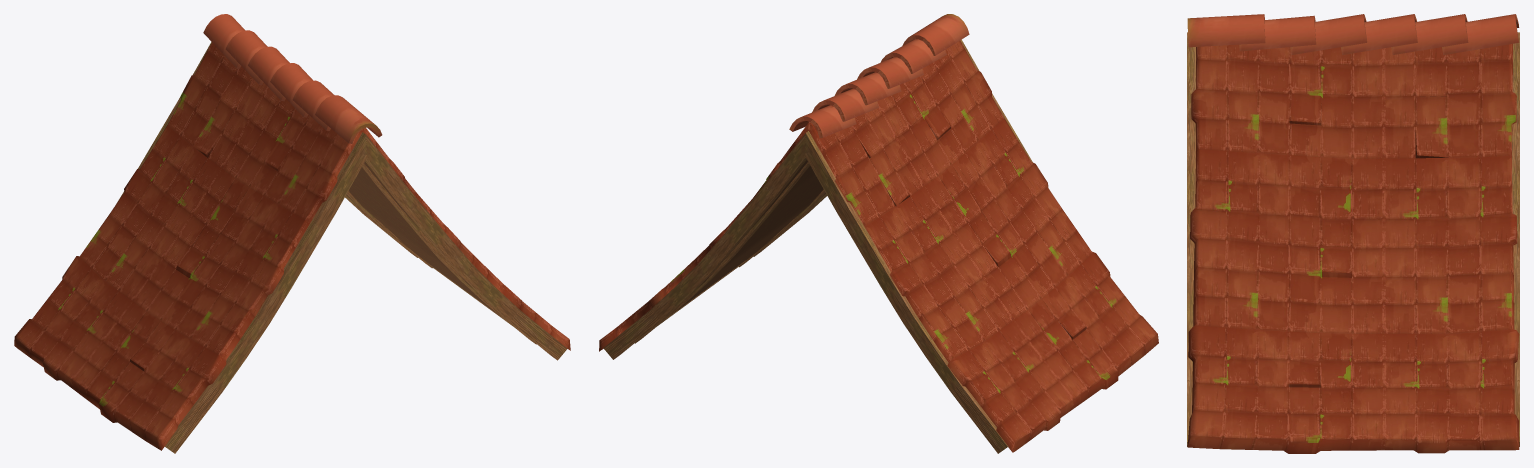
The model's file is Roof_FlatTiles_6x4.gltf.
3 views of the same model, side by side, from view 1: azimuth 30°, elevation 25°; view 2: azimuth 150°, elevation 25°; view 3: azimuth 270°, elevation 25° (orthographic). The views are drawn at different scales.
Parts seen in each view (by area): view 1: Roof_FlatTiles_6x4; view 2: Roof_FlatTiles_6x4; view 3: Roof_FlatTiles_6x4.
Part boxes in pixels (bbox=[...]): Roof_FlatTiles_6x4: bbox=[14, 14, 570, 453]; Roof_FlatTiles_6x4: bbox=[599, 14, 1158, 453]; Roof_FlatTiles_6x4: bbox=[1187, 14, 1519, 453].
Size of the model in its own units: 8.26 by 5.4 by 5.
3 materials, 3 textured.
